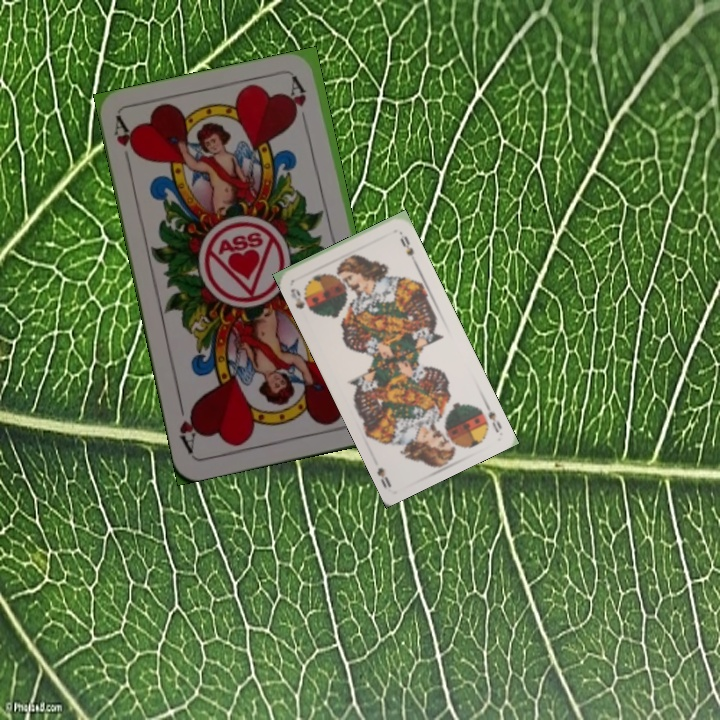HA: (109, 113, 141, 172)
SO: (480, 397, 504, 436), (286, 284, 307, 312)
